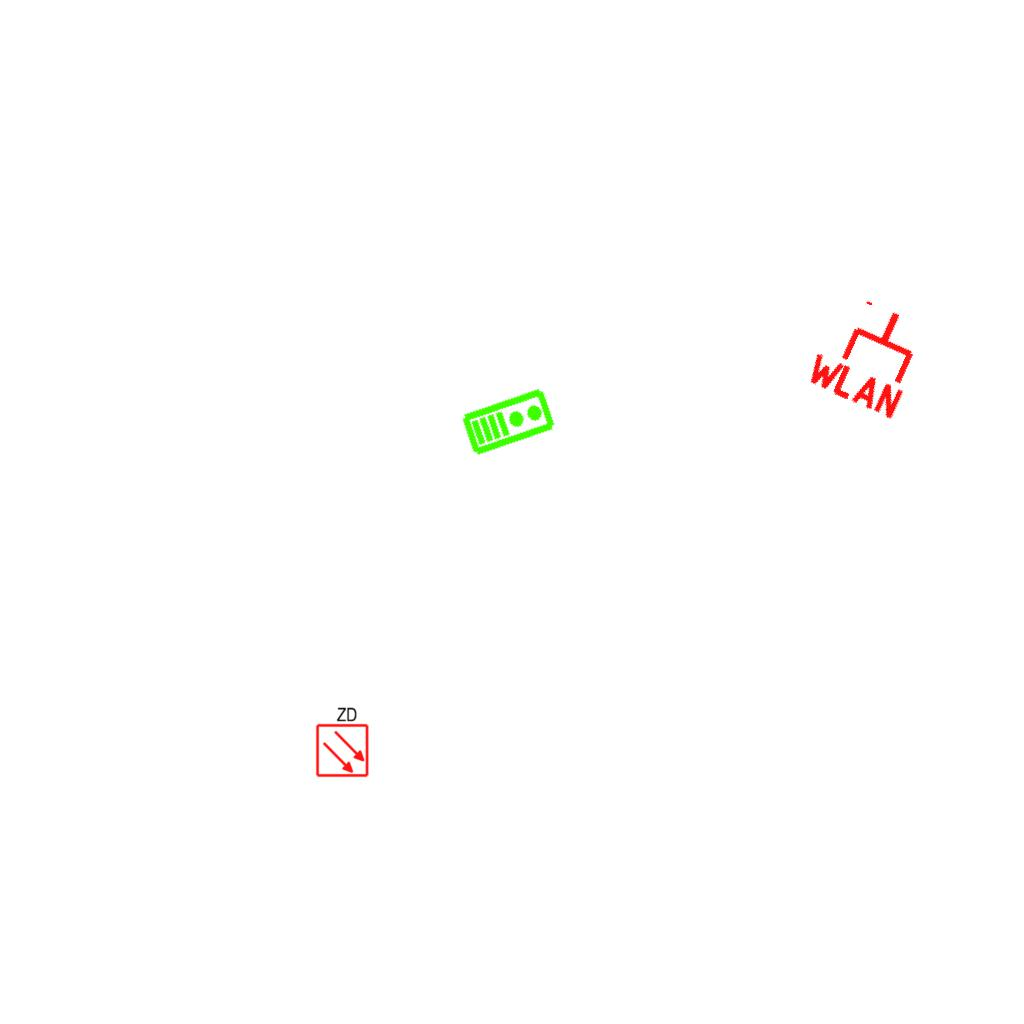Gegensprechanlage_mit_Video: (459, 384, 558, 458)
WLAN: (799, 284, 938, 424)
ZD_Melder_in_Zwischendecke_mit_Revisionsoeffnung_mind_40_x_40_cm: (313, 704, 370, 778)
